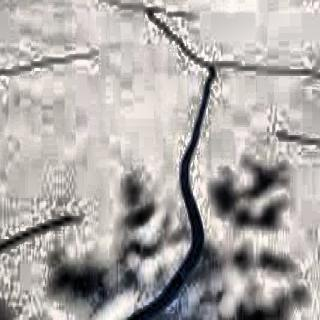crack: (109, 0, 218, 320), (0, 208, 82, 262), (0, 48, 101, 76), (277, 127, 320, 148)
